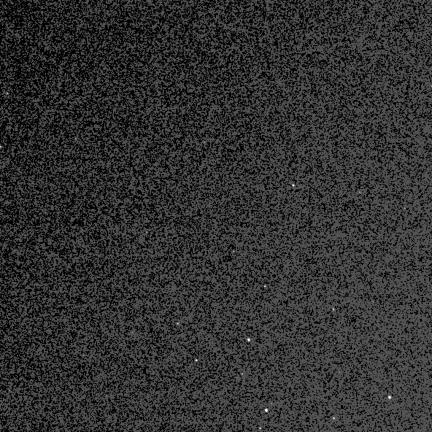blob: (388, 395, 391, 399), (265, 409, 268, 413), (248, 338, 251, 342), (292, 184, 295, 187), (177, 323, 180, 325), (195, 360, 198, 362), (333, 417, 335, 420), (333, 308, 335, 311)
